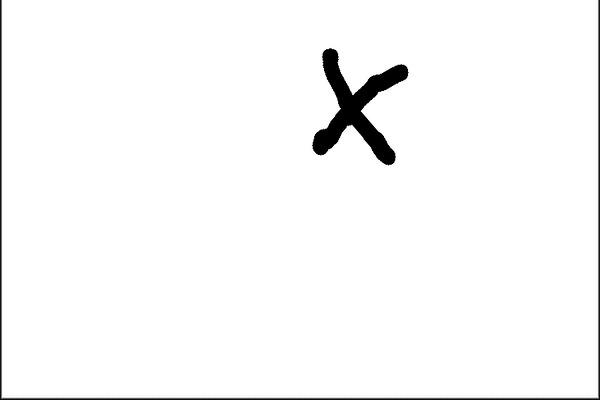X: (268, 32, 427, 187)
